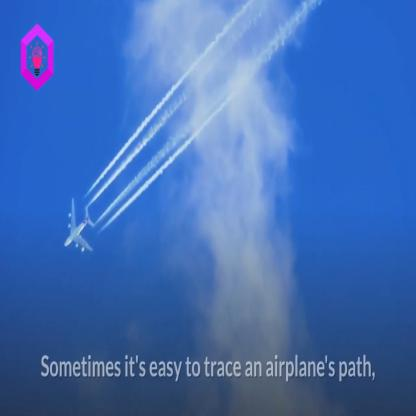plane: (60, 191, 101, 259)
